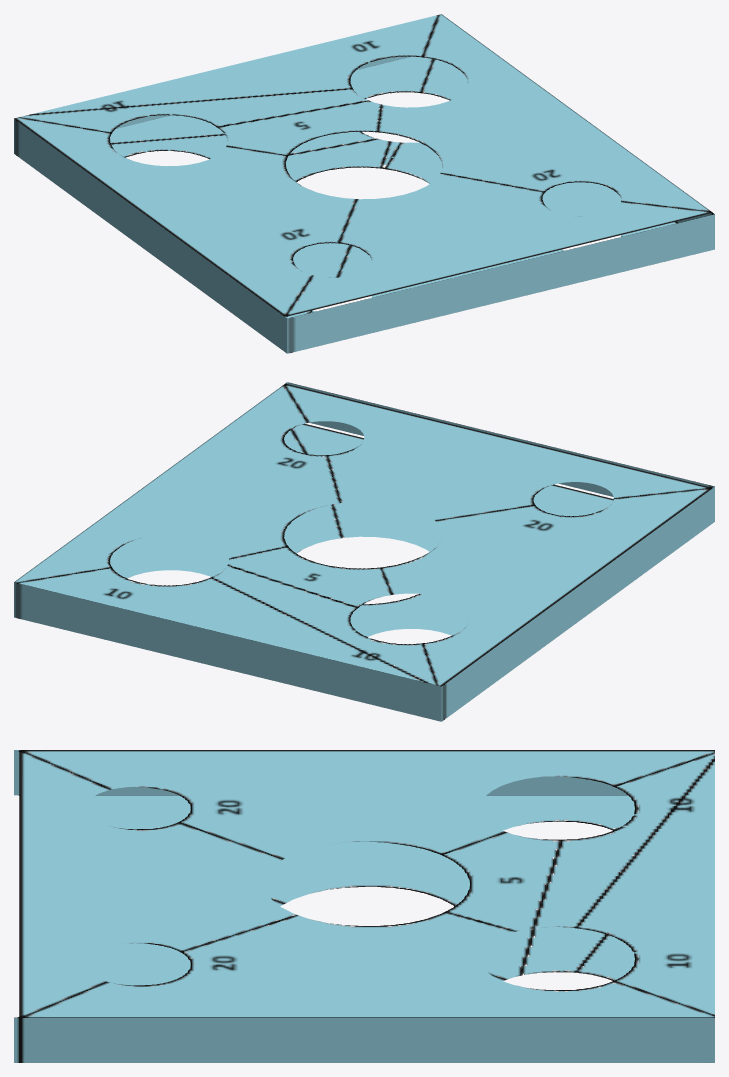
File: sans_nom.fbx
3 renders of one model, top to bottom at view 1: azimuth 30°, elevation 25°; view 2: azimuth 150°, elevation 25°; view 3: azimuth 270°, elevation 25°, orthographic. The views are drawn at different scales.
Visible parts, largest first — view 1: Cube; view 2: Cube; view 3: Cube.
Boxes of the visible parts, x1,y1,x2,y2 form: Cube: (14, 14, 714, 353); Cube: (14, 382, 714, 721); Cube: (14, 750, 714, 1062).
Bounding box in the file's own units: 2535 × 200 × 2806.
